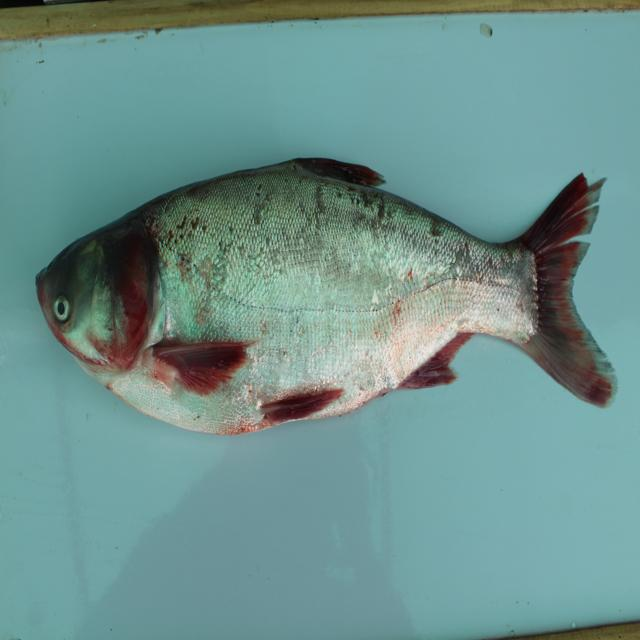SilverCarp: (27, 159, 622, 428)
